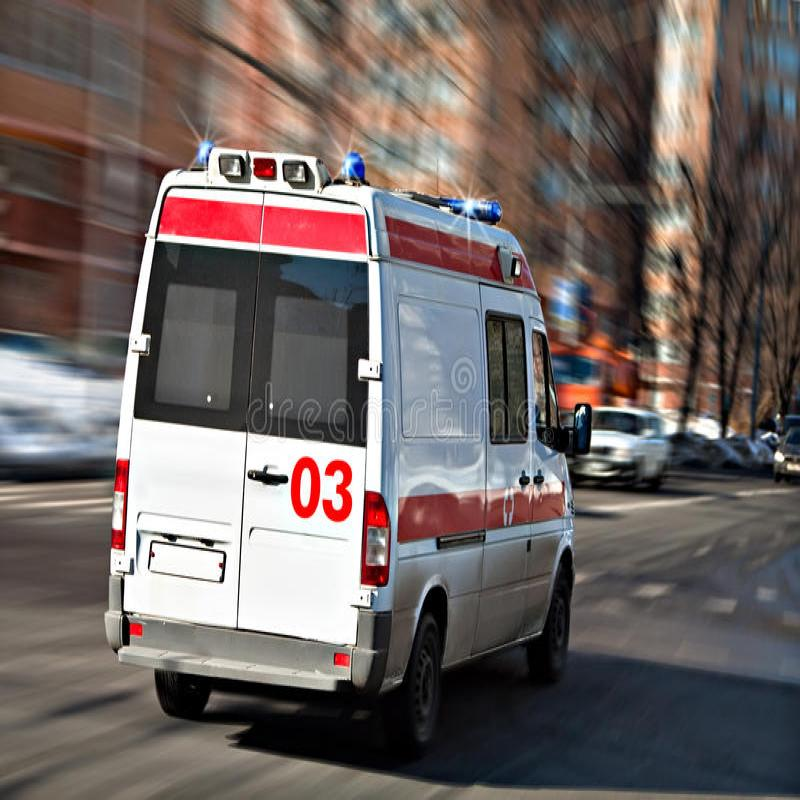ambulance: (98, 94, 590, 748)
